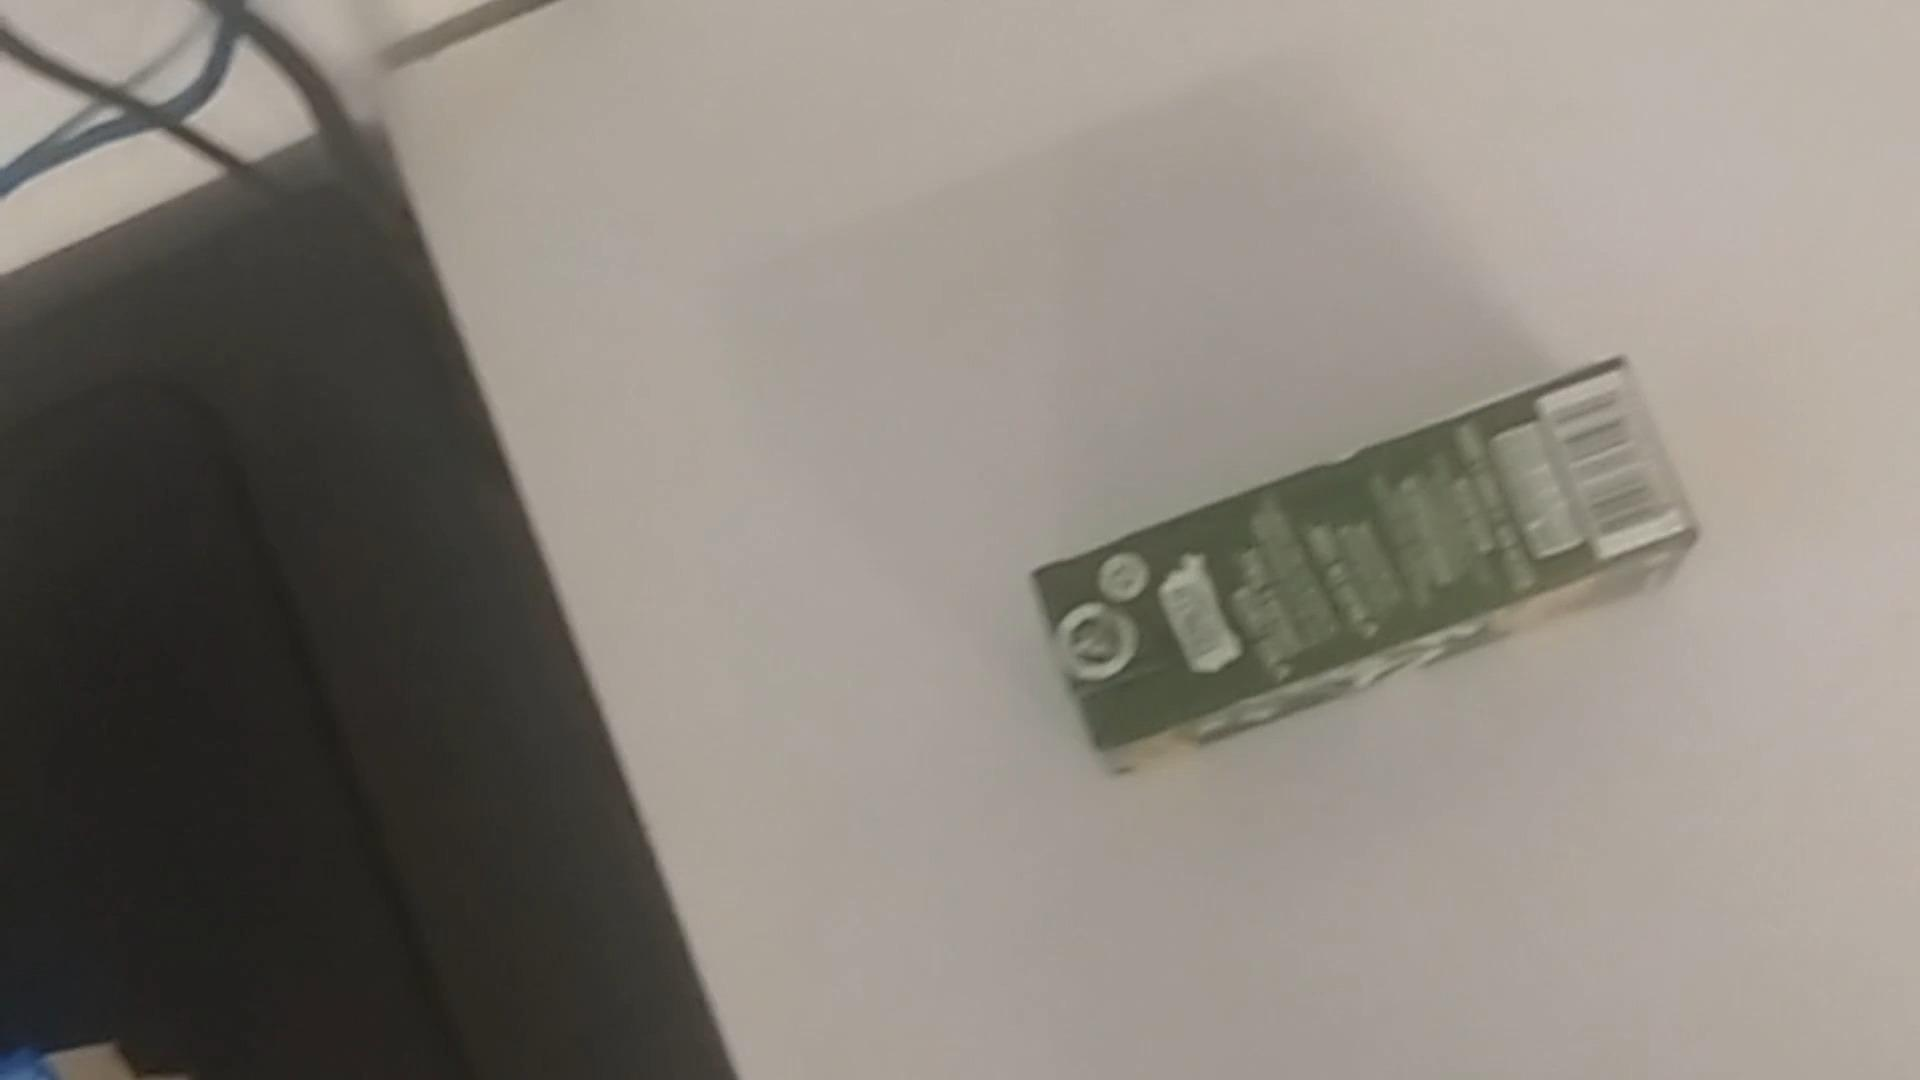coco: (1005, 340, 1710, 793)
